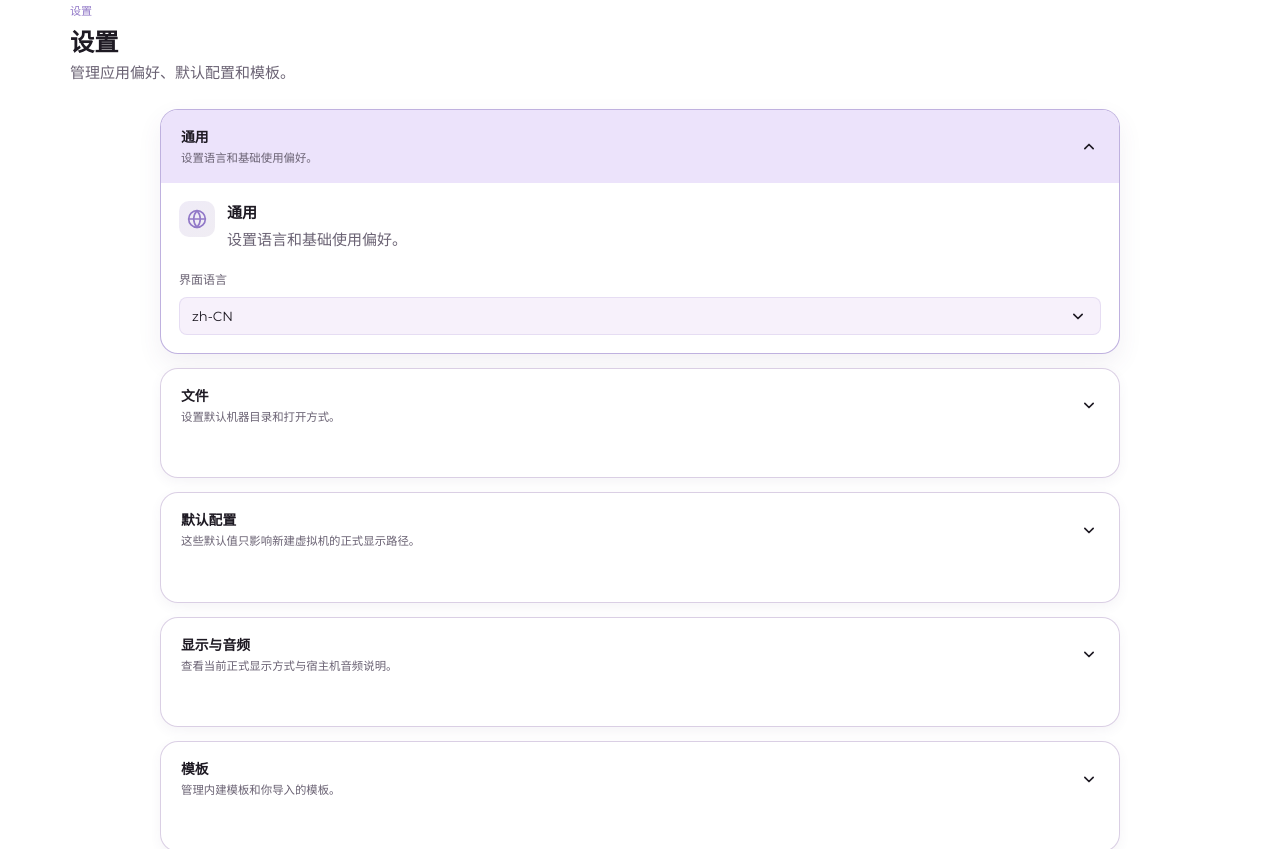
it: SettingsPage › keeps only one settings drawer expanded
Step 1. Click the button "模板 管理内建模板和你导入的模板。" → click(261, 790), box [161,742,1119,815]
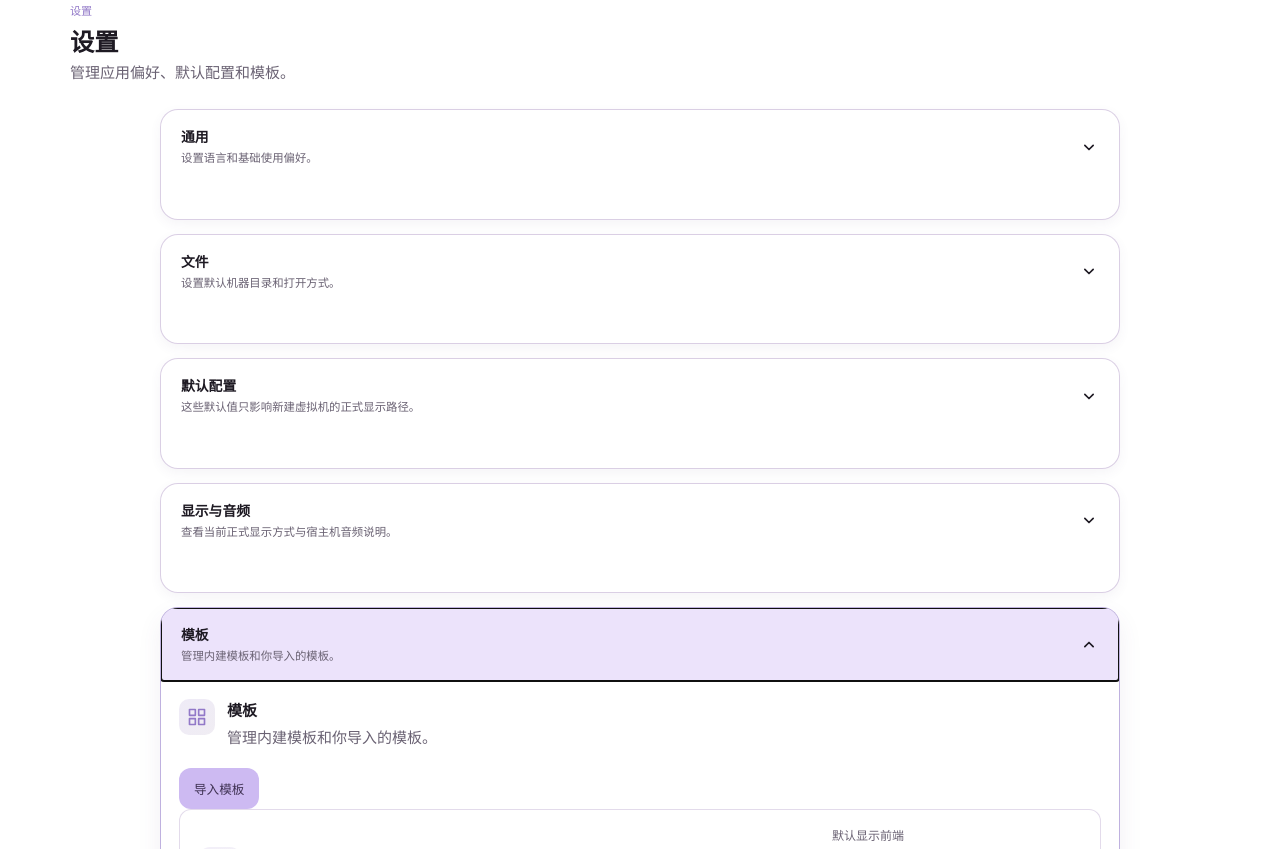
Result: the button "通用 设置语言和基础使用偏好。" is collapsed at [161,110,1119,183]
Result: the button "模板 管理内建模板和你导入的模板。" is expanded at [161,608,1119,681]
Result: the button "导入模板" is shown at [179,768,259,809]
